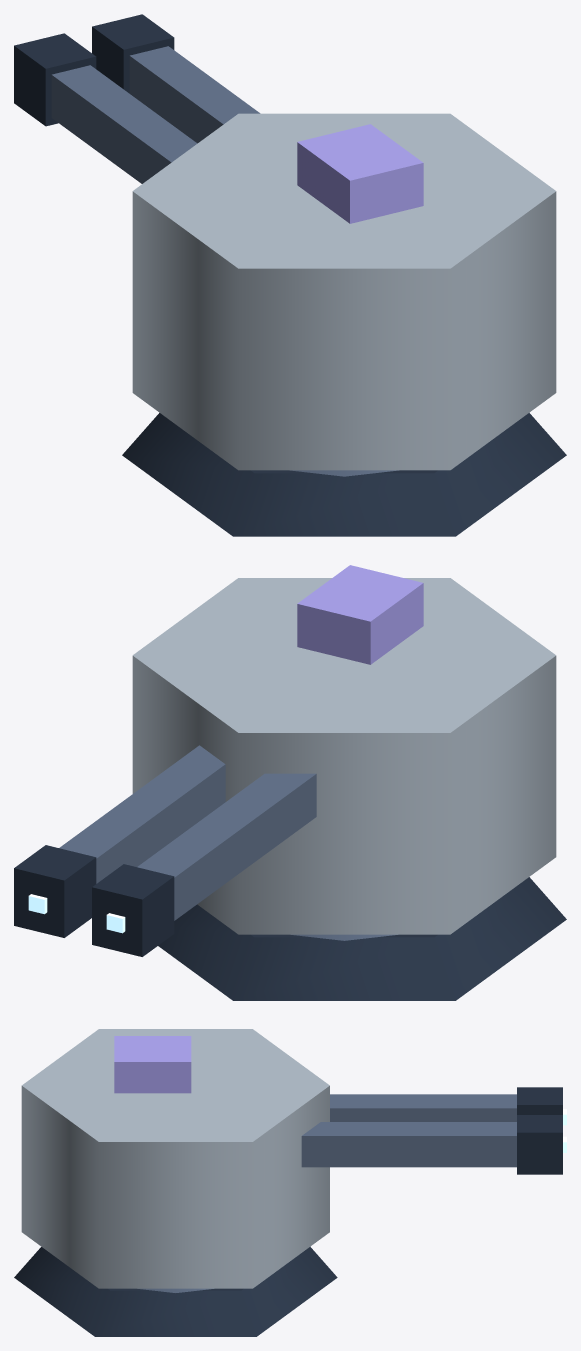
File: cryogenic_hydrocarbon--beam_turret.glb
The picture shows the model from 3 angles, top to bottom: view 1: azimuth 30°, elevation 25°; view 2: azimuth 150°, elevation 25°; view 3: azimuth 270°, elevation 25°; orthographic projection. The views are drawn at different scales.
Parts seen in each view (by area): view 1: faceted_module_housing_3, mount_adapter_1, targeting_unit_10, weapon_barrel_4, weapon_barrel_7, muzzle_5, muzzle_8; view 2: faceted_module_housing_3, mount_adapter_1, weapon_barrel_4, weapon_barrel_7, targeting_unit_10, muzzle_5, muzzle_8; view 3: faceted_module_housing_3, mount_adapter_1, weapon_barrel_7, weapon_barrel_4, targeting_unit_10, muzzle_8, muzzle_5.
Boxes of the visible parts, x1,y1,x2,y2 form: faceted_module_housing_3: (132, 113, 556, 470); mount_adapter_1: (122, 412, 566, 536); targeting_unit_10: (297, 124, 423, 223); weapon_barrel_4: (51, 65, 197, 183); weapon_barrel_7: (129, 46, 260, 143); muzzle_5: (14, 33, 96, 126); muzzle_8: (92, 14, 174, 93); faceted_module_housing_3: (132, 578, 556, 934); mount_adapter_1: (158, 877, 566, 1000); weapon_barrel_4: (137, 773, 316, 920); weapon_barrel_7: (59, 745, 225, 883); targeting_unit_10: (297, 565, 423, 664); muzzle_5: (92, 864, 174, 956); muzzle_8: (14, 845, 96, 937); faceted_module_housing_3: (21, 1029, 329, 1288); mount_adapter_1: (14, 1246, 337, 1336); weapon_barrel_7: (301, 1122, 516, 1167); weapon_barrel_4: (330, 1094, 516, 1121); targeting_unit_10: (114, 1036, 191, 1093); muzzle_8: (517, 1115, 562, 1174); muzzle_5: (517, 1087, 562, 1114).
Size of the model in its own units: 8.73 by 7.86 by 17.22.
